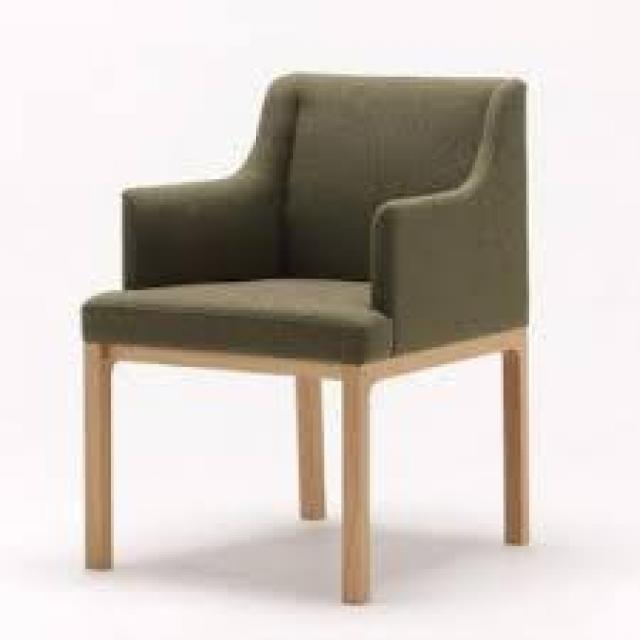chair: (47, 58, 584, 610)
